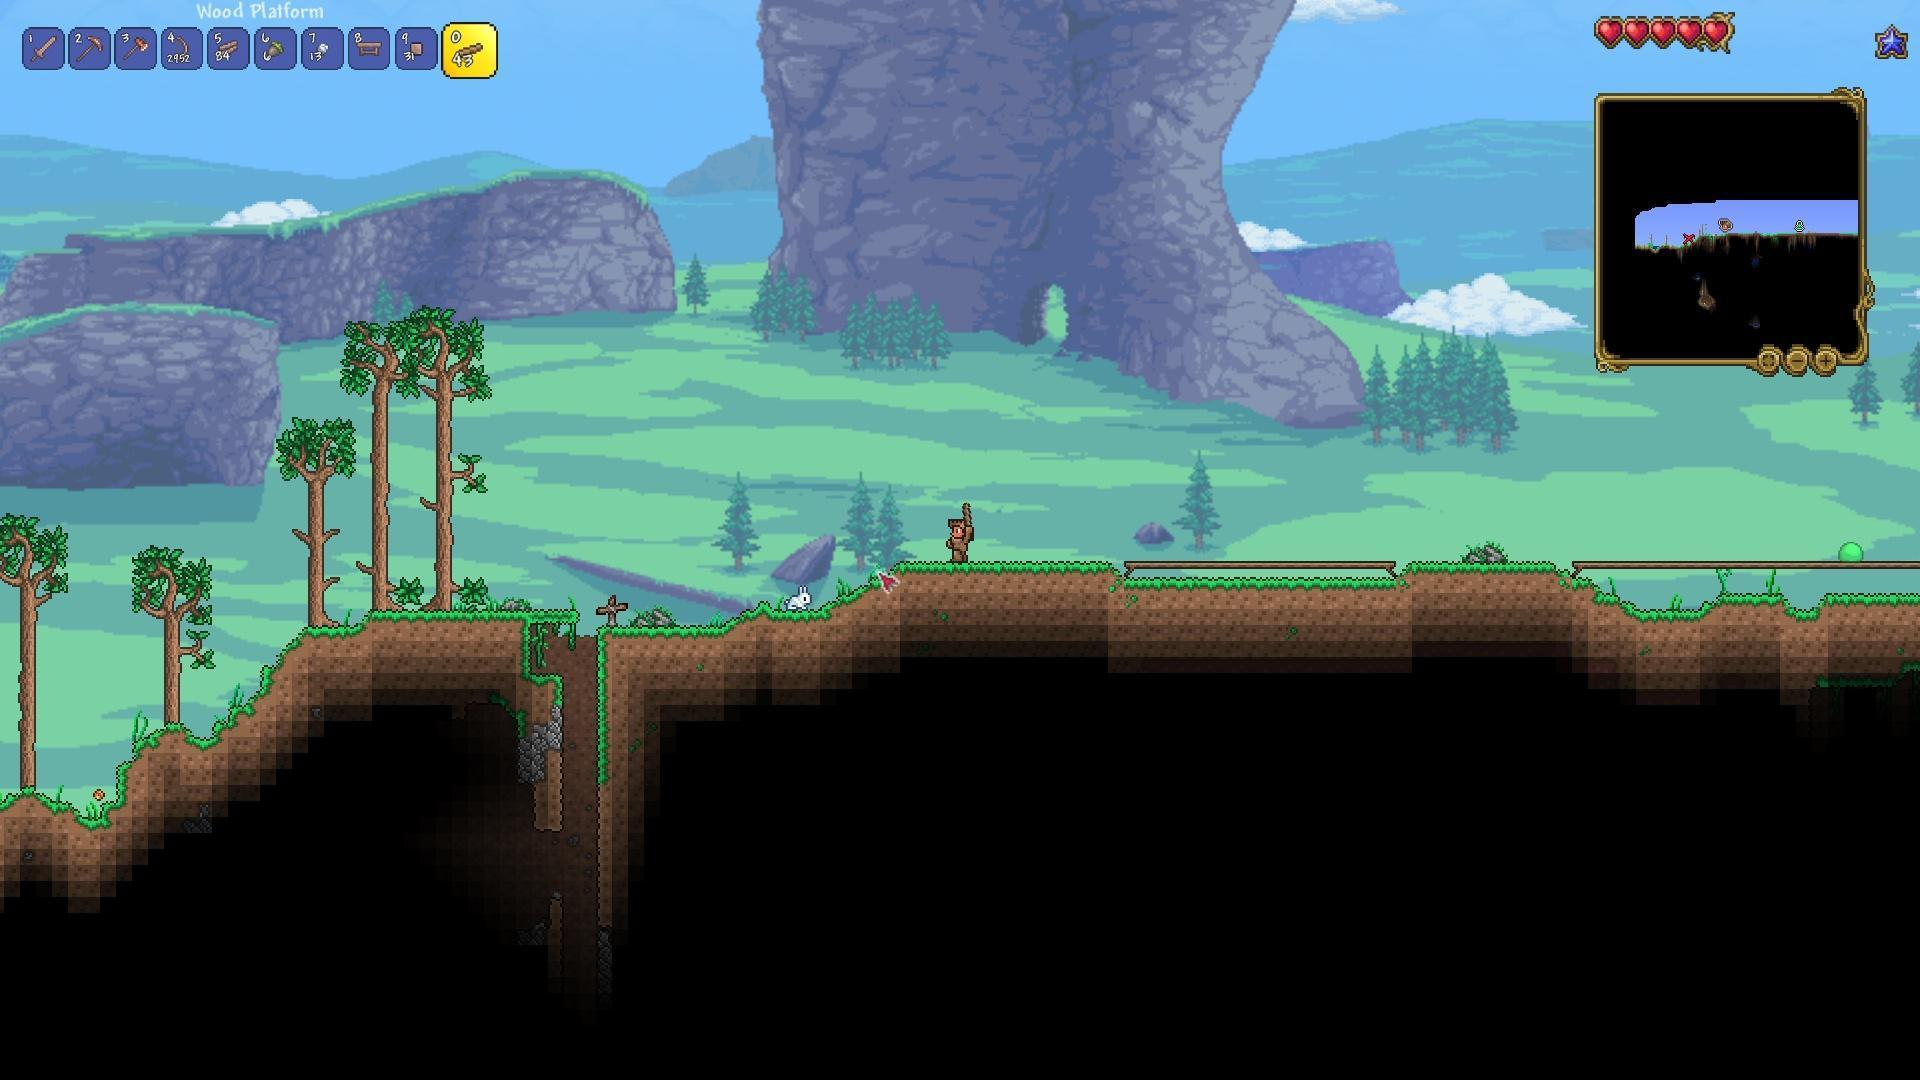slime: (1834, 538, 1862, 566)
wood: (218, 34, 243, 66)
workbench: (349, 37, 386, 62)
